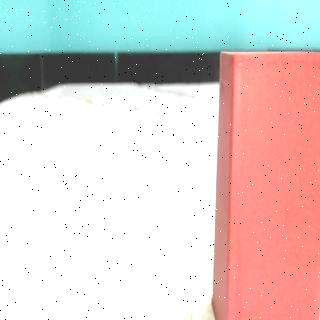redbox: (211, 50, 320, 320)
